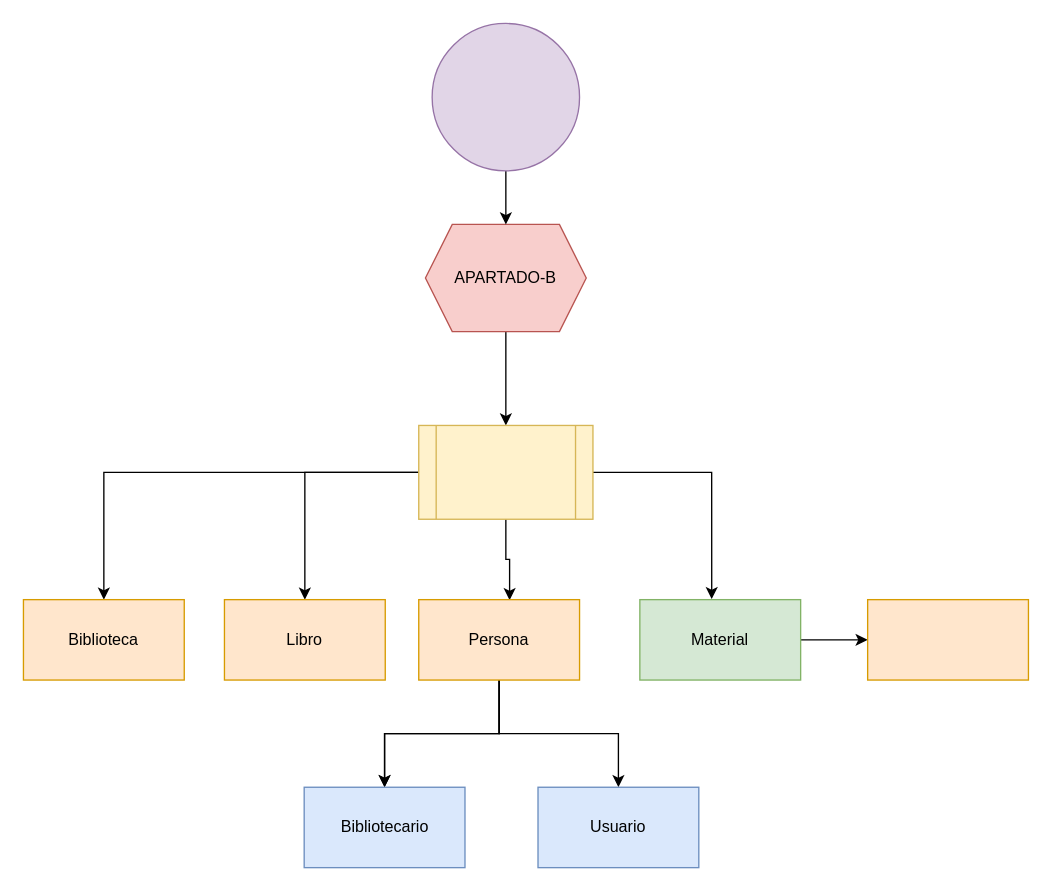
Image size: 1052x891. Some labels were removed from this diagram. Here are the shapes that lost their labels. From the top down, the centre of each, then its label:
At [505,96]: "PROYECTO".
At [505,471]: "MenuBibliotecario".
At [947,639]: "Reserva".
